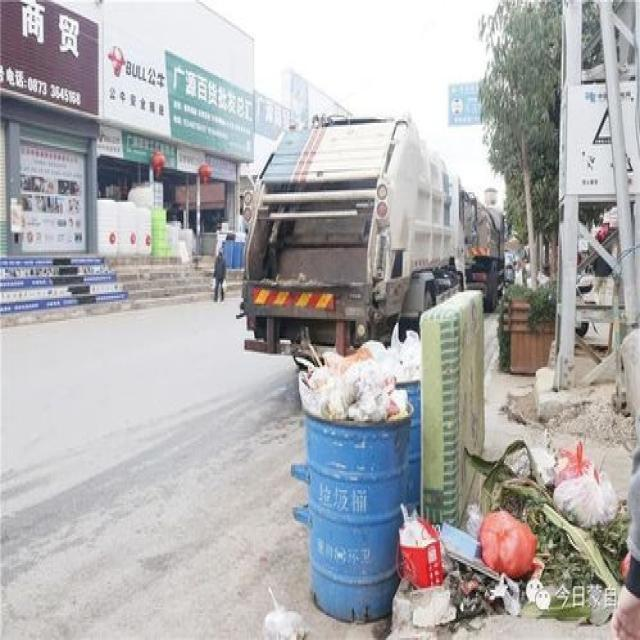garbage: (393, 432, 630, 619)
overflow: (292, 340, 420, 619)
